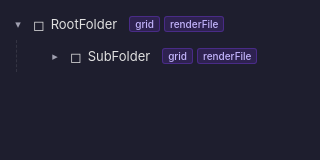
TreeView - Drag and Drop Integration › should open the top level only, and open deeper levels on request
This screenshot has width=320, height=160.
Expected: the text "RootFolder" is shown, [51,16,117,32]
Expected: the text "SubFolder" is shown, [88,48,150,64]
Click the button with class "toggle" showing "▸".
click(55, 56)  # box [52,49,58,63]
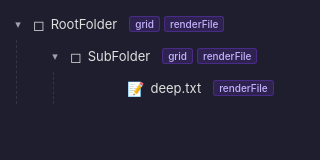
Now the text "deep.txt" is shown, box [150,80,201,96]
